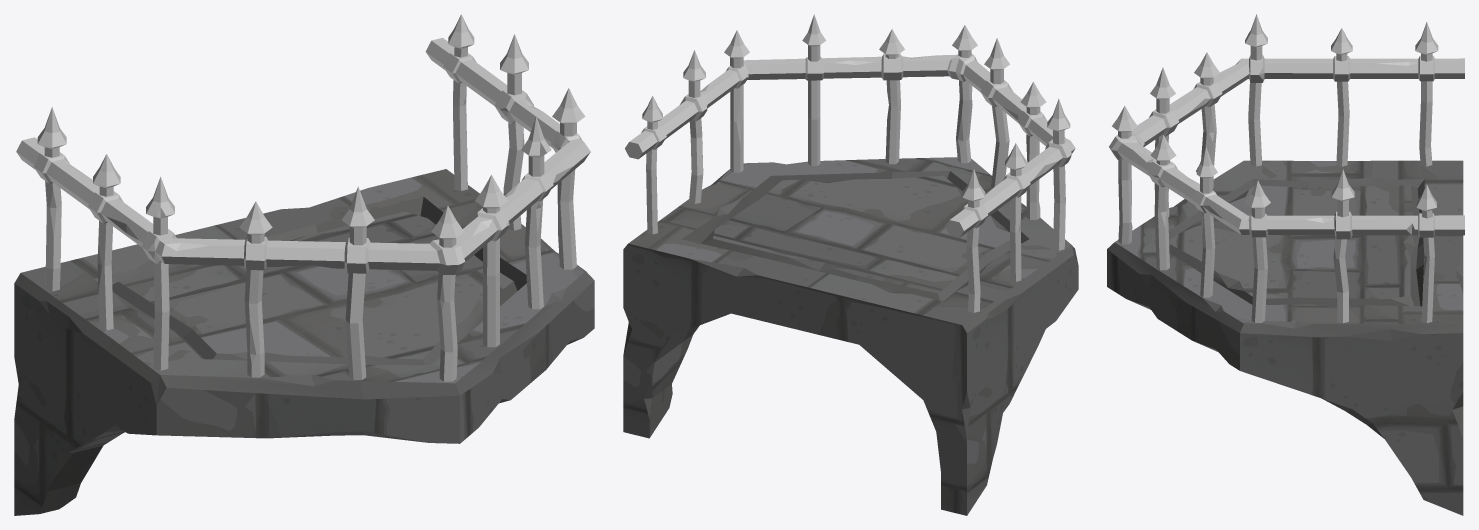
File: SM_Bld_Balcony_02.fbx
The picture shows the model from 3 angles, left to right: view 1: azimuth 30°, elevation 25°; view 2: azimuth 150°, elevation 25°; view 3: azimuth 270°, elevation 25°; orthographic projection. The views are drawn at different scales.
Visible parts, largest first — view 1: SM_Bld_Balcony_02; view 2: SM_Bld_Balcony_02; view 3: SM_Bld_Balcony_02.
Part boxes in pixels (x1,y1,x2,y2): SM_Bld_Balcony_02: (14, 14, 594, 515); SM_Bld_Balcony_02: (623, 14, 1078, 515); SM_Bld_Balcony_02: (1107, 14, 1464, 515).
Bounding box in the file's own units: 251 × 237 × 225.
